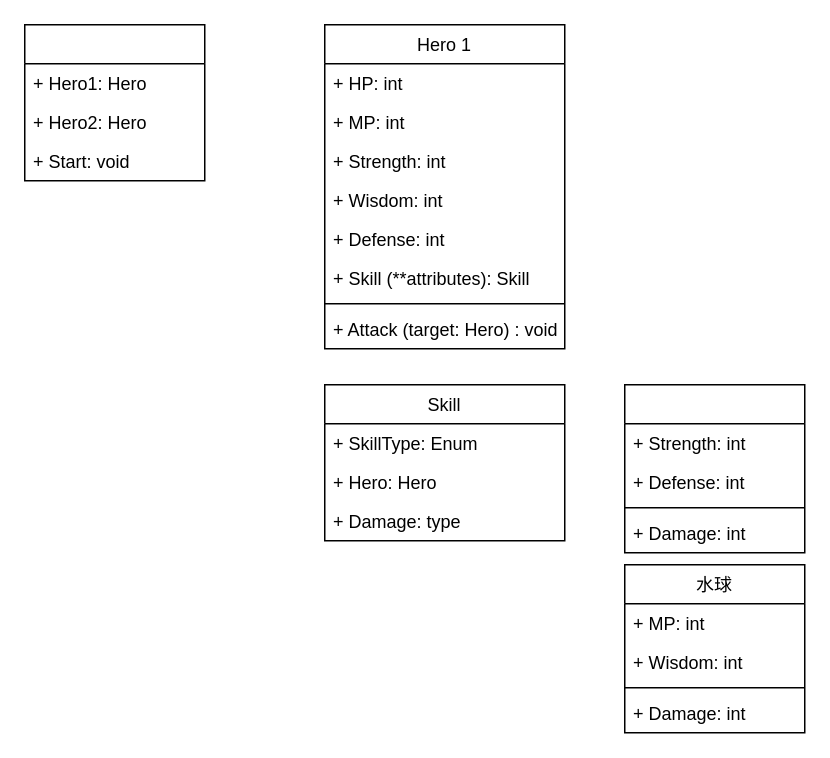
This 830x758 diagram has some shape labels left out. Each missing label, with the box of its shape:
Battle: (23, 23, 205, 181)
衝撞: (623, 383, 805, 553)
